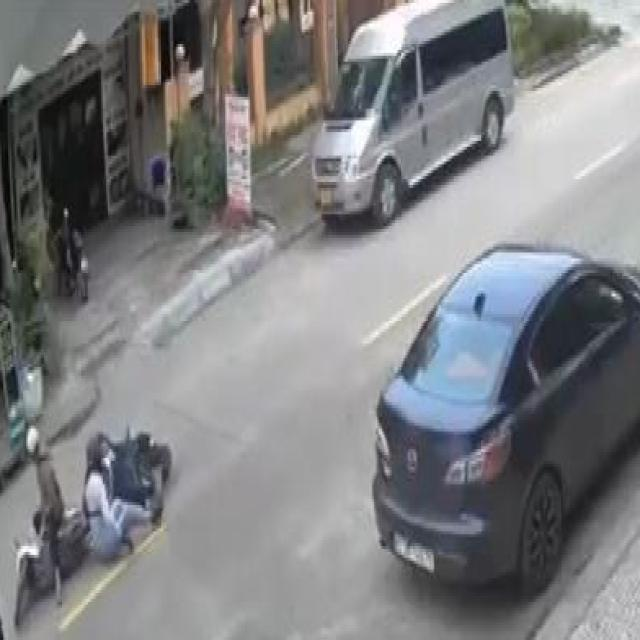accident: (7, 393, 177, 639)
